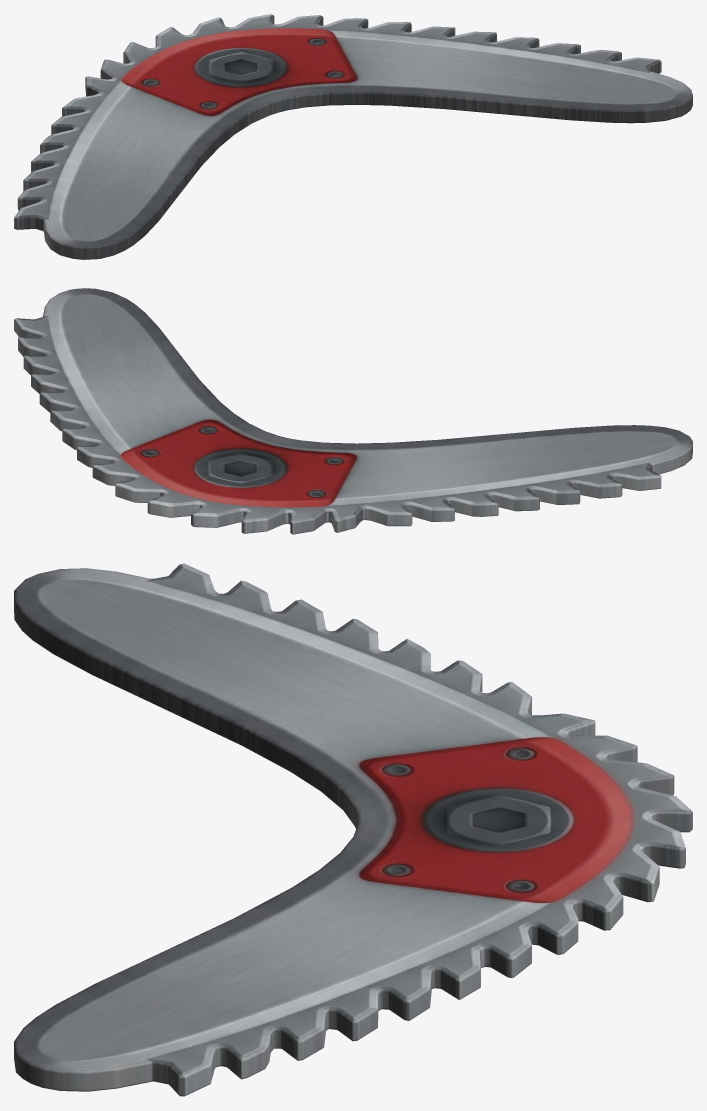
Rendered from Boomerang_48.fbx.
3 views of the same model, one above another, from view 1: azimuth 30°, elevation 25°; view 2: azimuth 150°, elevation 25°; view 3: azimuth 270°, elevation 25° (orthographic). The views are drawn at different scales.
Visible parts, largest first — view 1: Boomerang_48; view 2: Boomerang_48; view 3: Boomerang_48.
Part boxes in pixels (bbox=[...]): Boomerang_48: bbox=[14, 14, 692, 259]; Boomerang_48: bbox=[14, 288, 692, 534]; Boomerang_48: bbox=[14, 563, 692, 1096].
Size of the model in its own units: 205 by 3.8 by 114.
1 material, 1 textured.
